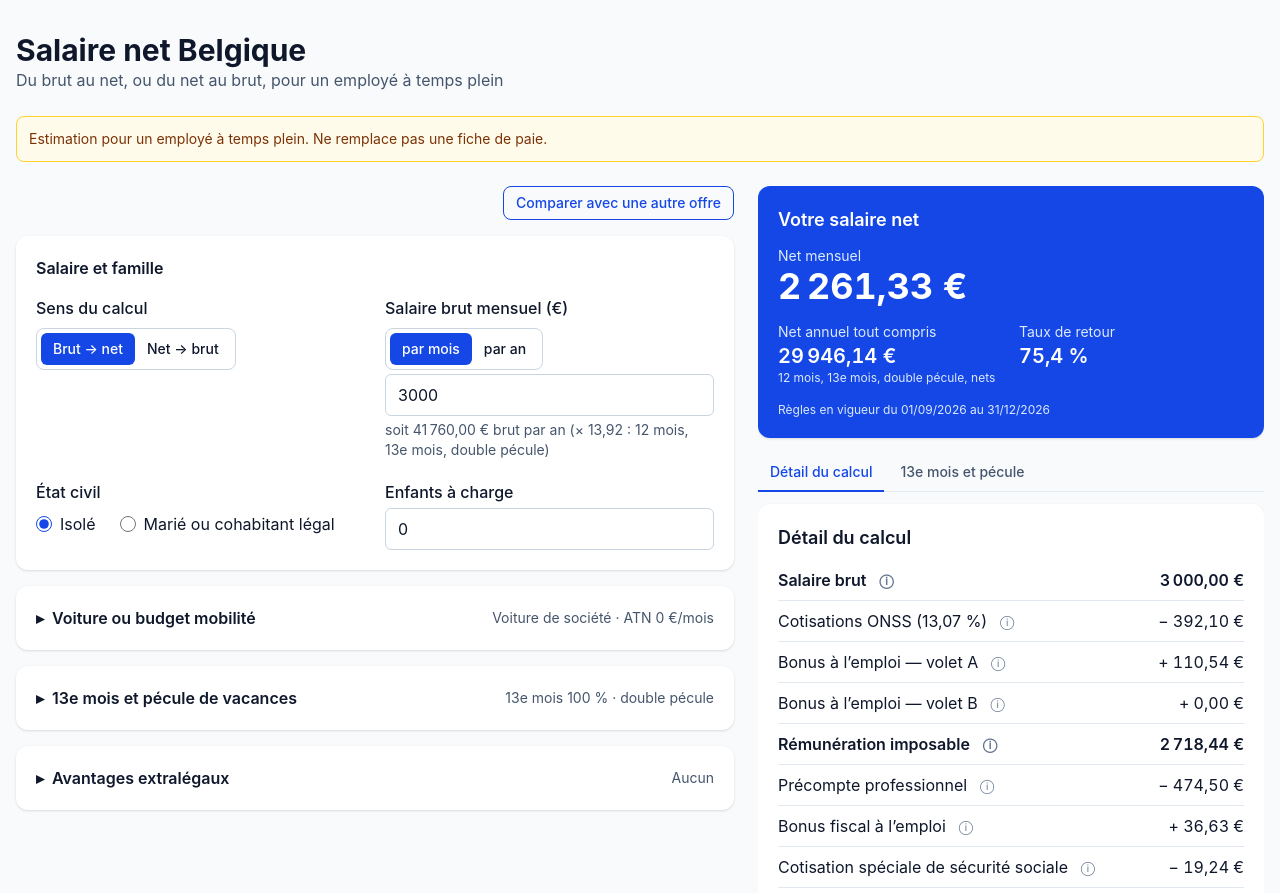
Test: App — avantages extralégaux › ajoute les lignes d’avantages au détail du calcul
Click the button "▸ Avantages extralégaux Aucun": coordinates (141, 778) [16,746,734,810]
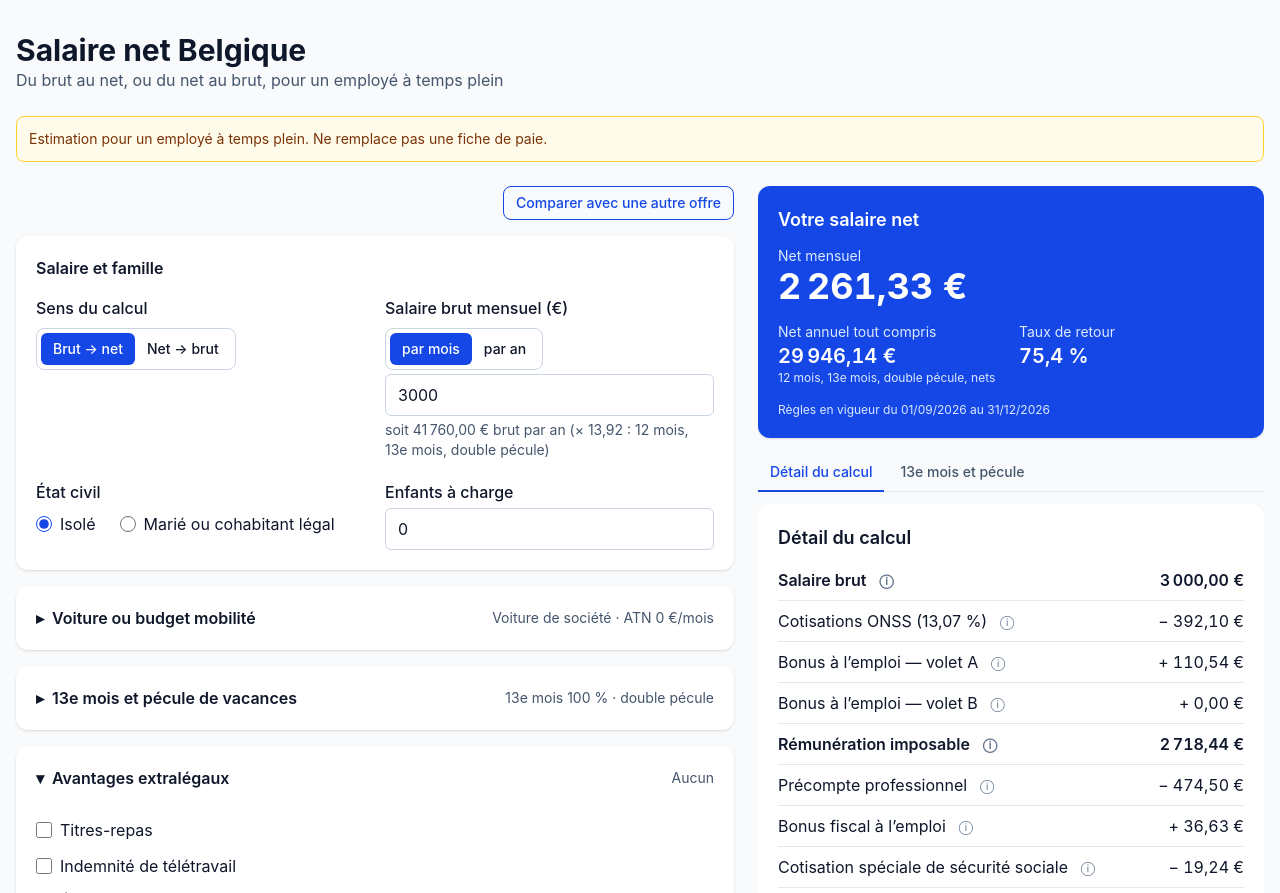
Click the checkbox labelled "Titres-repas": coordinates (44, 830) [36,822,52,838]
(page scrolled)
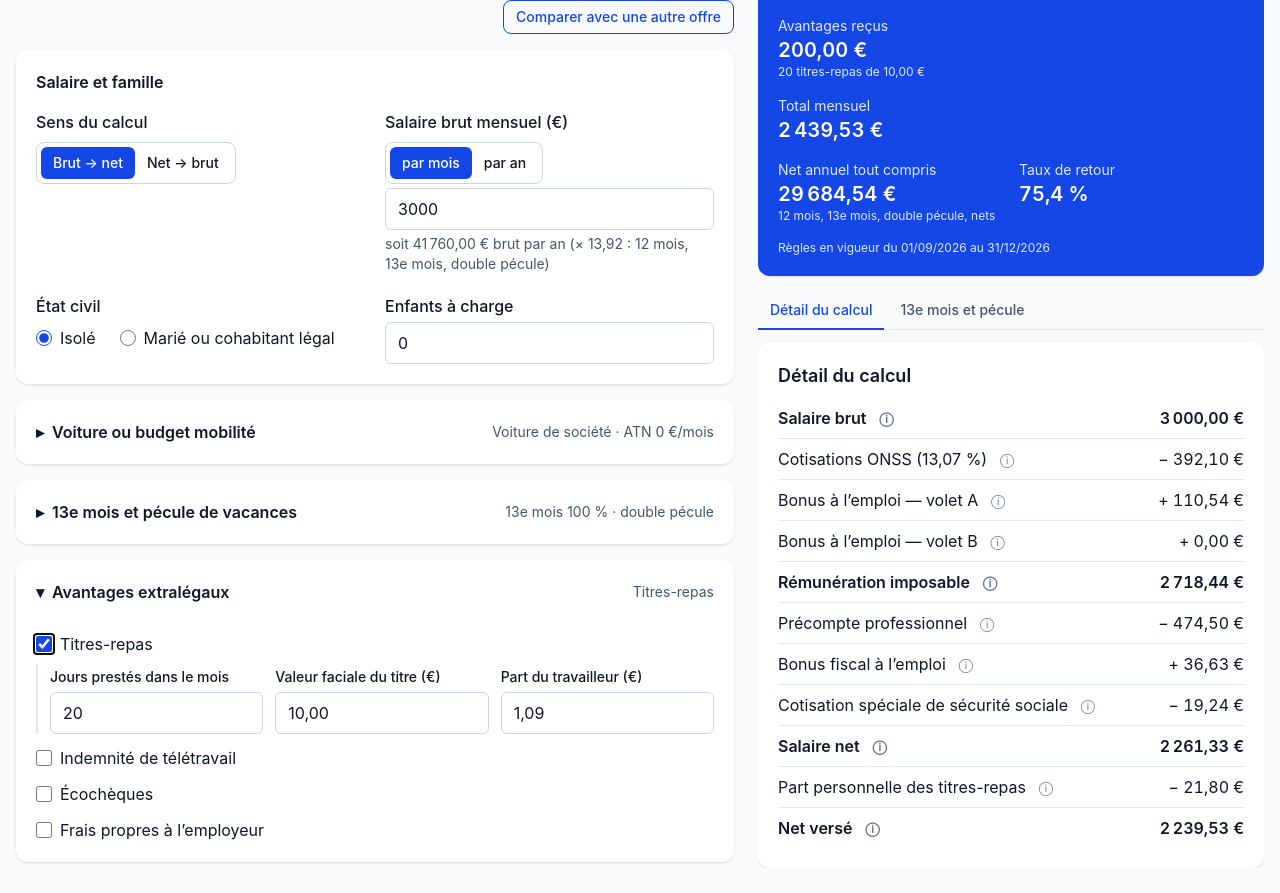
Expected: the text "Part personnelle des titres-repas" is shown, [778,775,1026,799]
Expected: the text "Net versé" is shown, [778,816,852,840]
